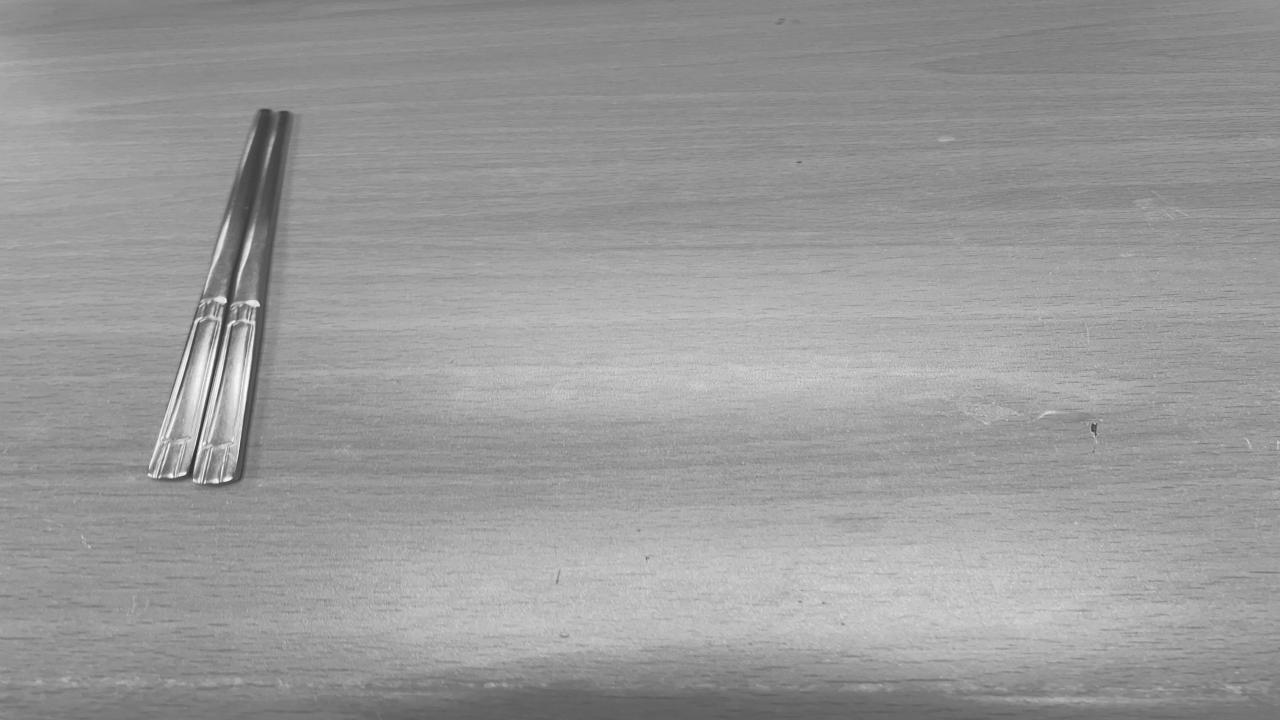chopstick: (148, 109, 292, 481)
